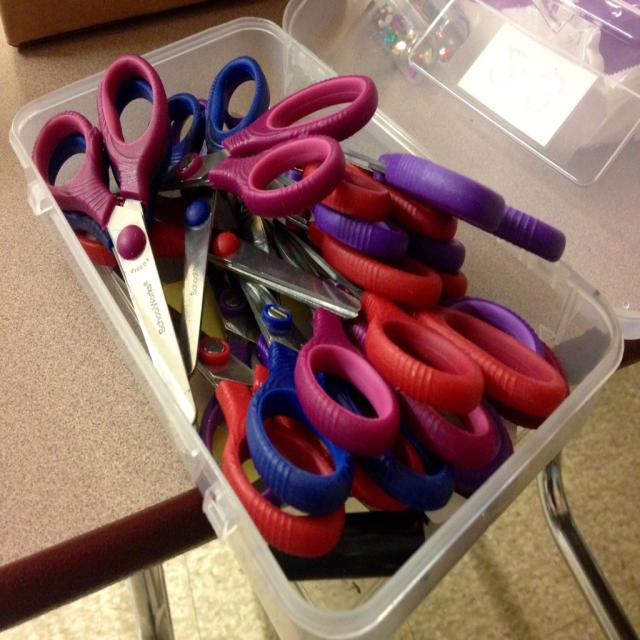scissors: (31, 52, 204, 426)
